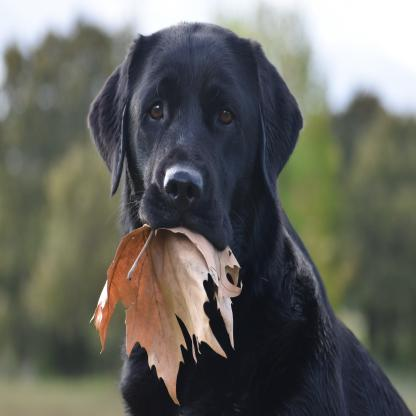dog: (88, 21, 416, 416)
